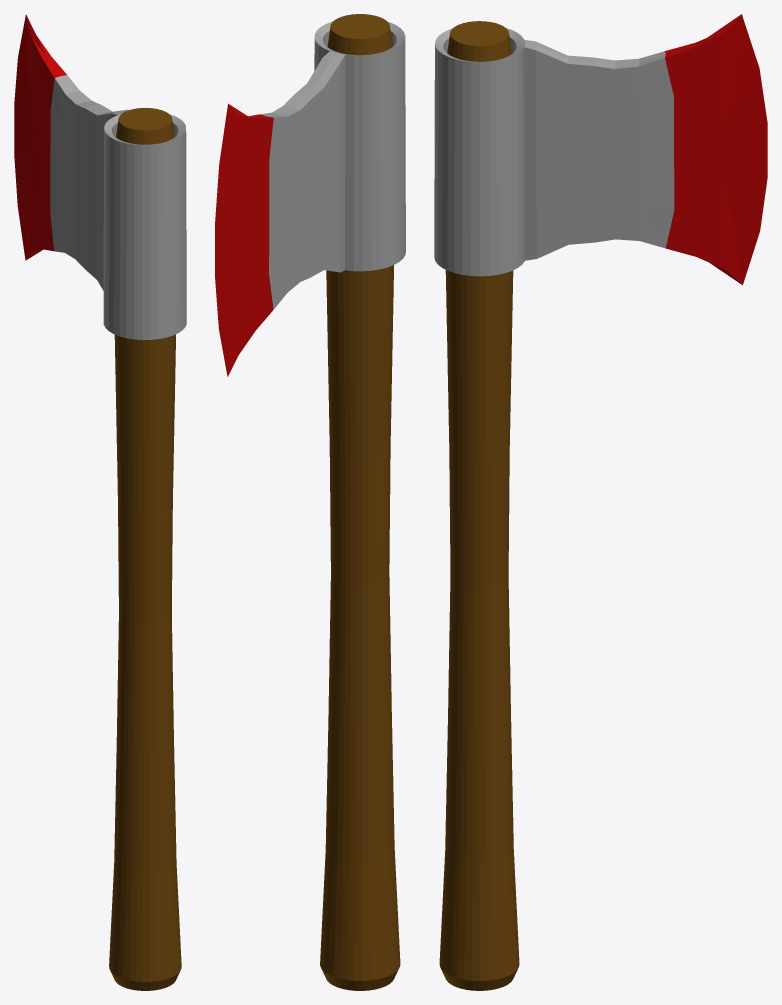
File: axe.dae
The picture shows the model from 3 angles, left to right: view 1: azimuth 30°, elevation 25°; view 2: azimuth 150°, elevation 25°; view 3: azimuth 270°, elevation 25°; orthographic projection. The views are drawn at different scales.
Parts seen in each view (by area): view 1: Cylinder; view 2: Cylinder; view 3: Cylinder.
Boxes of the visible parts, left/top/right/bottom form: Cylinder: left=14, top=14, right=186, bottom=990; Cylinder: left=215, top=14, right=405, bottom=990; Cylinder: left=434, top=14, right=767, bottom=990.
Size of the model in its own units: 0.2648 by 0.9634 by 3.07.
